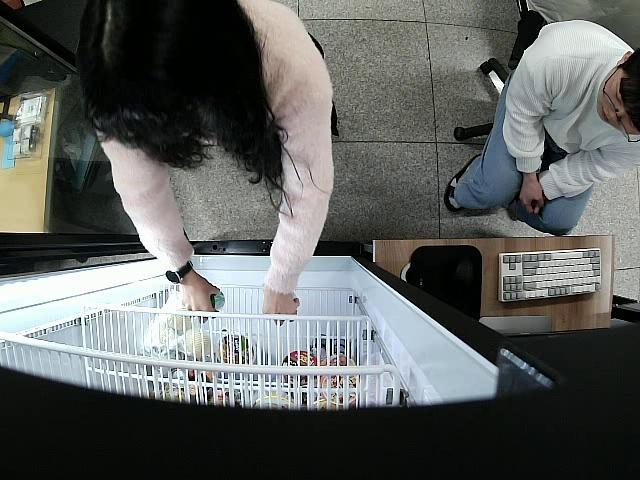12_chilsungCider: (206, 292, 225, 310)
